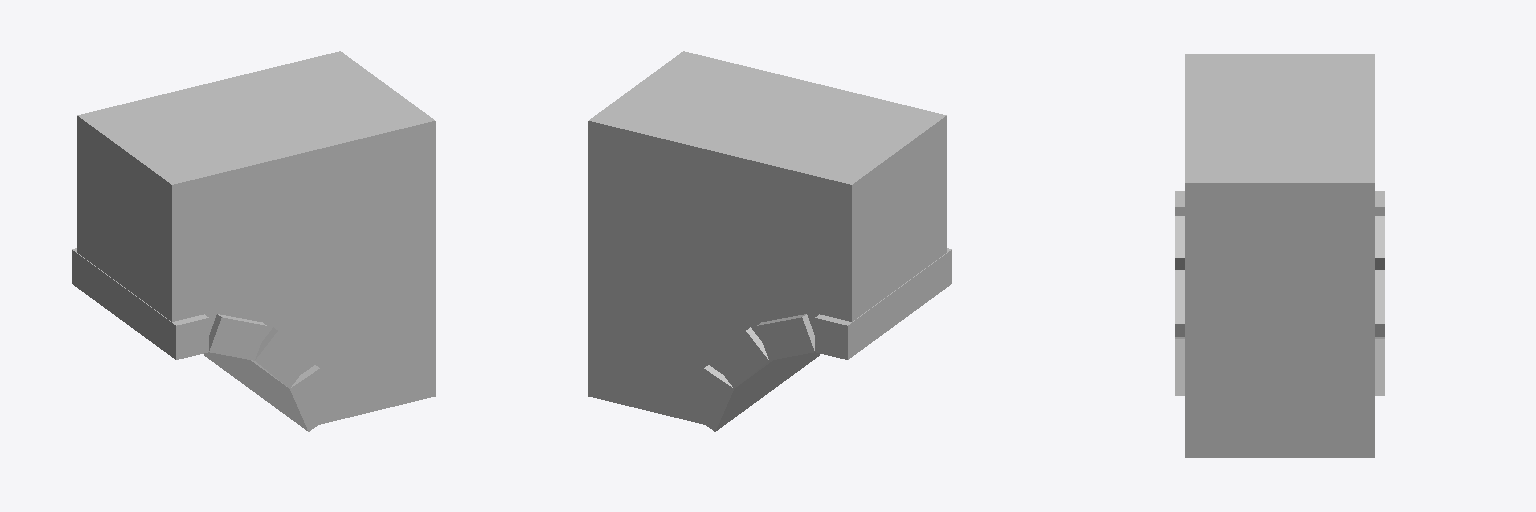
File: narrow_lapis_single_arch.obj
3 renders of one model, left to right at view 1: azimuth 30°, elevation 25°; view 2: azimuth 150°, elevation 25°; view 3: azimuth 270°, elevation 25°, orthographic.
Visible parts, largest first — view 1: cube; view 2: cube; view 3: cube.
Boxes of the visible parts, x1,y1,x2,y2 form: cube: [72, 51, 435, 431]; cube: [588, 51, 951, 431]; cube: [1175, 54, 1384, 457].
Bounding box in the file's own units: 1 × 1 × 0.6875.